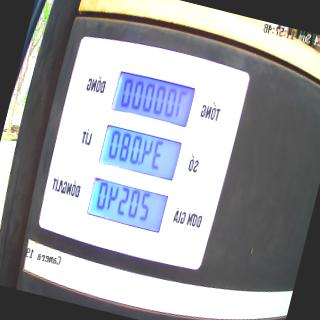screen: (80, 63, 198, 238)
